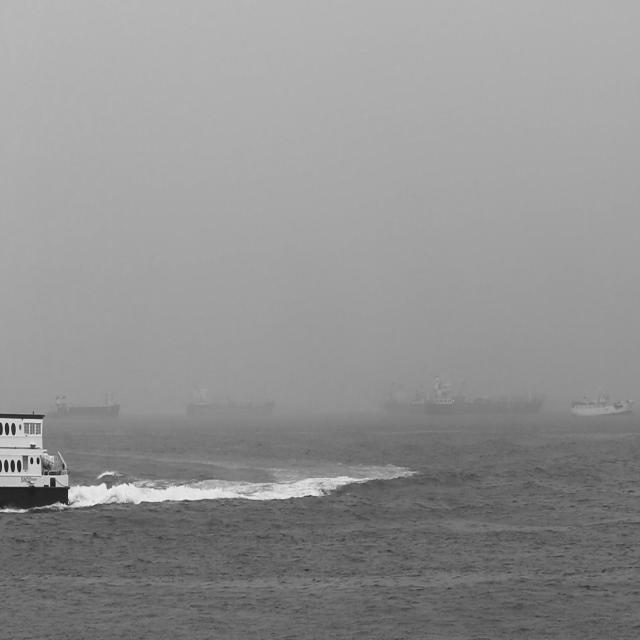ship: (0, 412, 73, 512), (425, 376, 548, 413), (186, 385, 278, 414), (52, 392, 122, 418), (572, 390, 634, 416), (379, 378, 410, 415), (410, 391, 424, 414)
